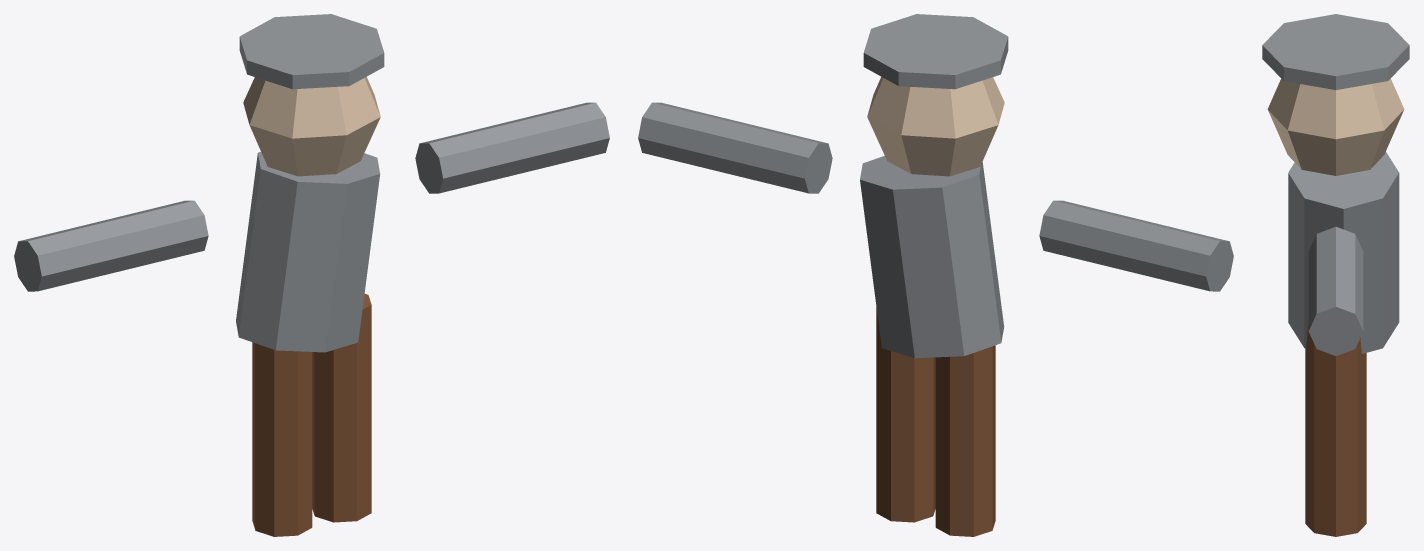
Rendered from old_wang.glb.
3 views of the same model, side by side, from view 1: azimuth 30°, elevation 25°; view 2: azimuth 150°, elevation 25°; view 3: azimuth 270°, elevation 25° (orthographic).
Visible parts, largest first — view 1: old_wang; view 2: old_wang; view 3: old_wang.
Part boxes in pixels (bbox=[...]): old_wang: bbox=[14, 14, 609, 536]; old_wang: bbox=[638, 14, 1233, 536]; old_wang: bbox=[1262, 14, 1409, 536].
Size of the model in its own units: 2.14 by 1.7 by 0.4882.
